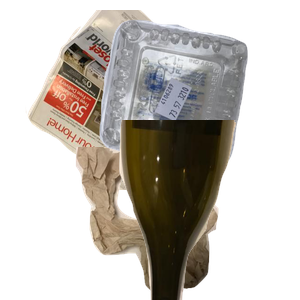glass: (117, 120, 300, 300)
paper: (23, 10, 245, 190)
plastic: (97, 17, 300, 176)
trash: (73, 147, 300, 300)
